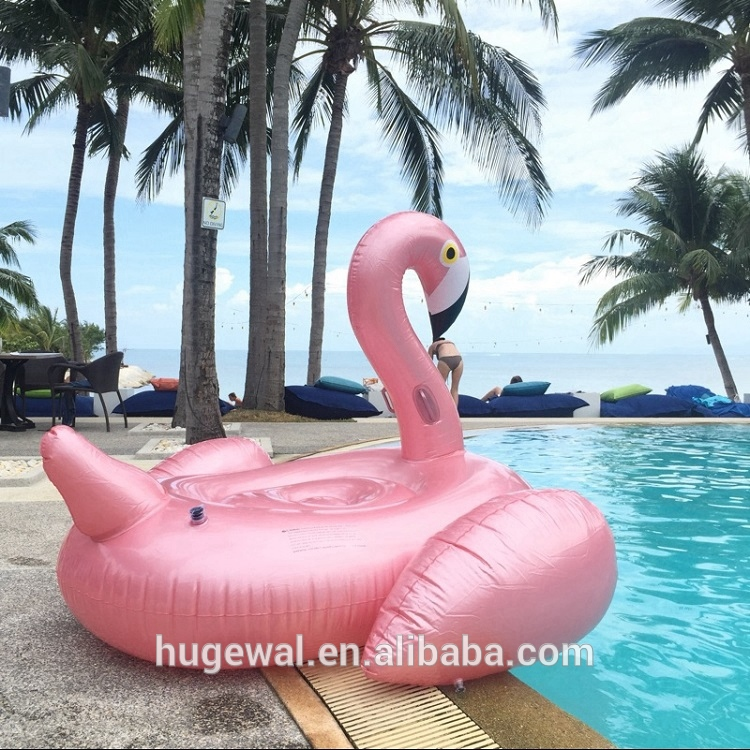Flamingo: (37, 208, 625, 690)
